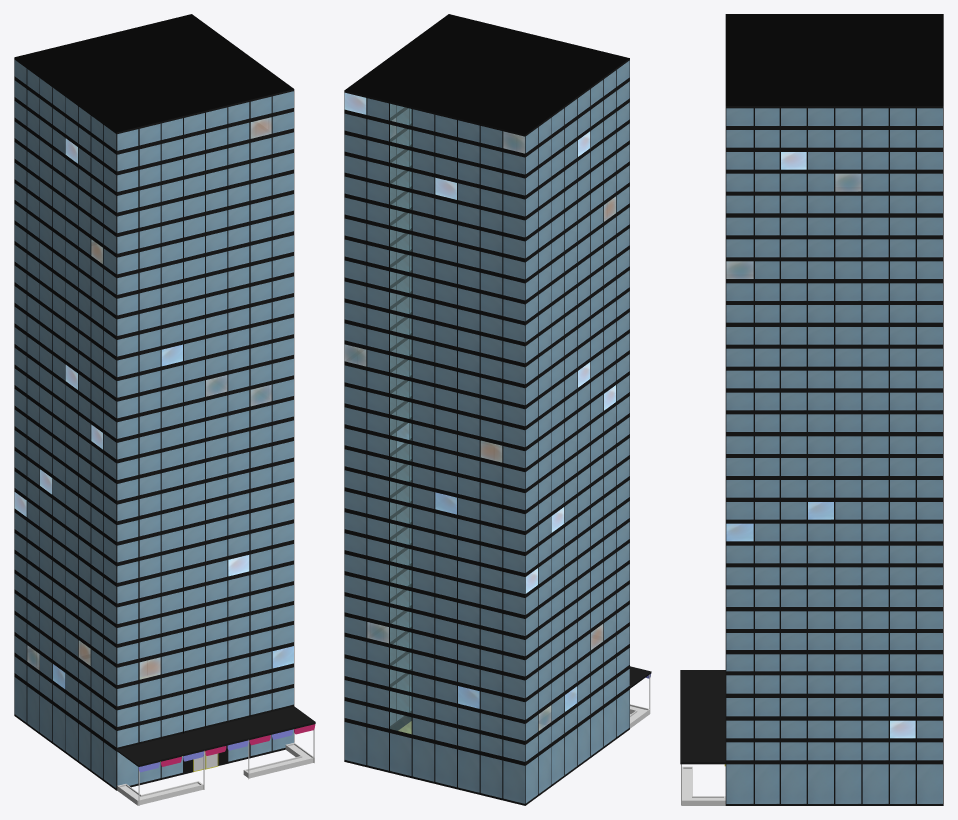
The model's file is City_Large_Building_2.glb.
The picture shows the model from 3 angles, left to right: view 1: azimuth 30°, elevation 25°; view 2: azimuth 150°, elevation 25°; view 3: azimuth 270°, elevation 25°; orthographic projection. The views are drawn at different scales.
Parts seen in each view (by area): view 1: Windows, Building_Frame, Floor, Planter_Left, Planter_Right; view 2: Windows, Building_Frame, Floor; view 3: Windows, Building_Frame, Floor, Planter_Right.
Part boxes in pixels (x1,y1,x2,y2): Windows: (14, 60, 293, 787); Building_Frame: (14, 57, 315, 790); Floor: (14, 14, 293, 132); Planter_Left: (117, 781, 203, 805); Planter_Right: (243, 742, 314, 778); Windows: (344, 60, 629, 803); Building_Frame: (344, 58, 651, 805); Floor: (344, 14, 629, 730); Windows: (726, 108, 942, 803); Building_Frame: (680, 106, 943, 805); Floor: (725, 14, 943, 105); Planter_Right: (682, 766, 725, 805).
Bounding box in the file's own units: 24 × 85 × 29.
15 materials, 6 textured.
